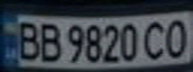0: (118, 20, 142, 62)
2: (103, 20, 124, 64)
8: (81, 21, 106, 64)
9: (63, 21, 84, 63)
B: (9, 18, 42, 61), (36, 20, 63, 63)
C: (139, 18, 172, 61)
O: (160, 16, 193, 60)
